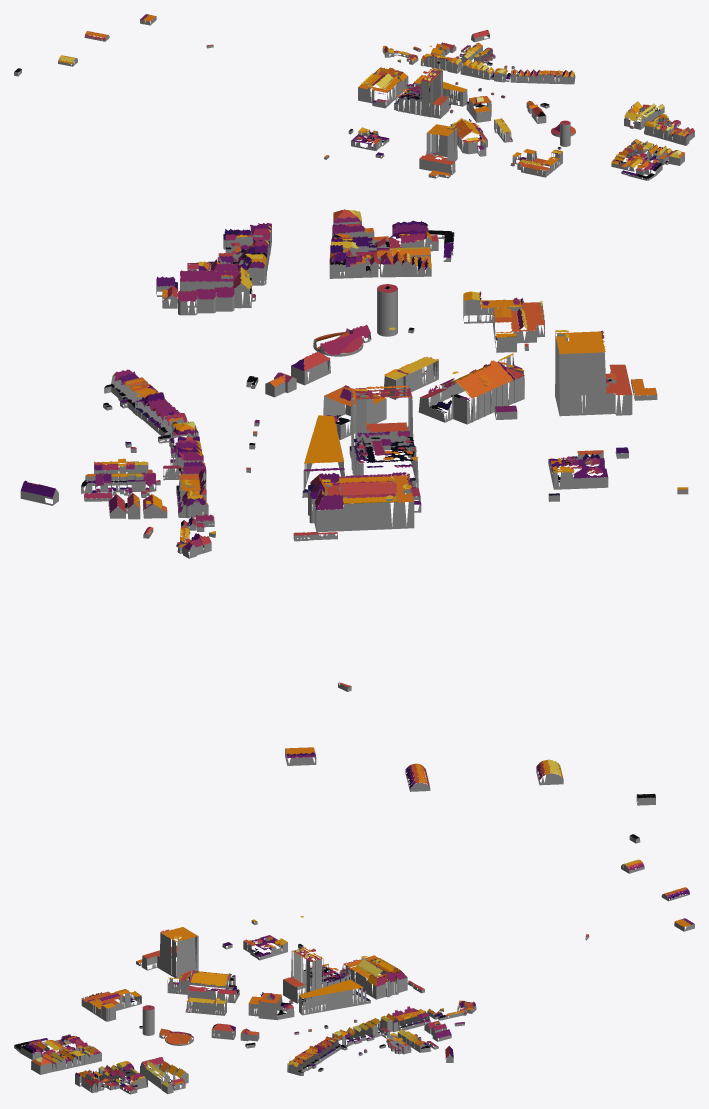
File: binnenstad_83000_448000.glb
The picture shows the model from 3 angles, top to bottom: view 1: azimuth 30°, elevation 25°; view 2: azimuth 150°, elevation 25°; view 3: azimuth 270°, elevation 25°; orthographic projection. The views are drawn at different scales.
Size of the model in its own units: 563 by 79.66 by 633.
